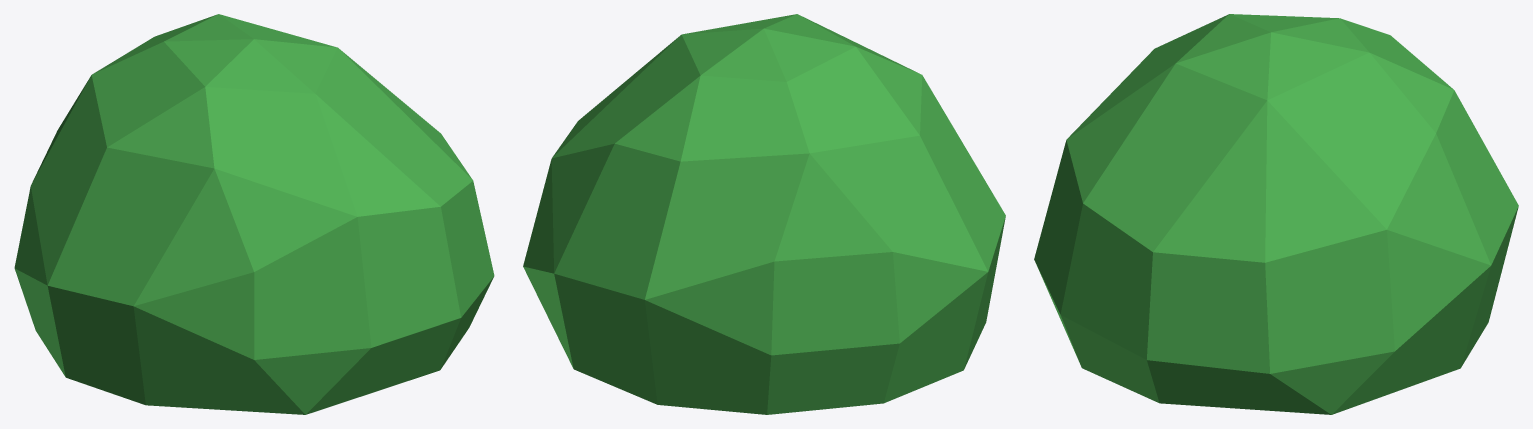
File: Bush.fbx
3 views of the same model, side by side, from view 1: azimuth 30°, elevation 25°; view 2: azimuth 150°, elevation 25°; view 3: azimuth 270°, elevation 25° (orthographic). The views are drawn at different scales.
Parts seen in each view (by area): view 1: Bush; view 2: Bush; view 3: Bush.
Boxes of the visible parts, box(x1,y1,x2,y2) form: Bush: box(14, 14, 494, 414); Bush: box(523, 14, 1005, 414); Bush: box(1034, 14, 1518, 414).
Bounding box in the file's own units: 126 × 83.74 × 125.
